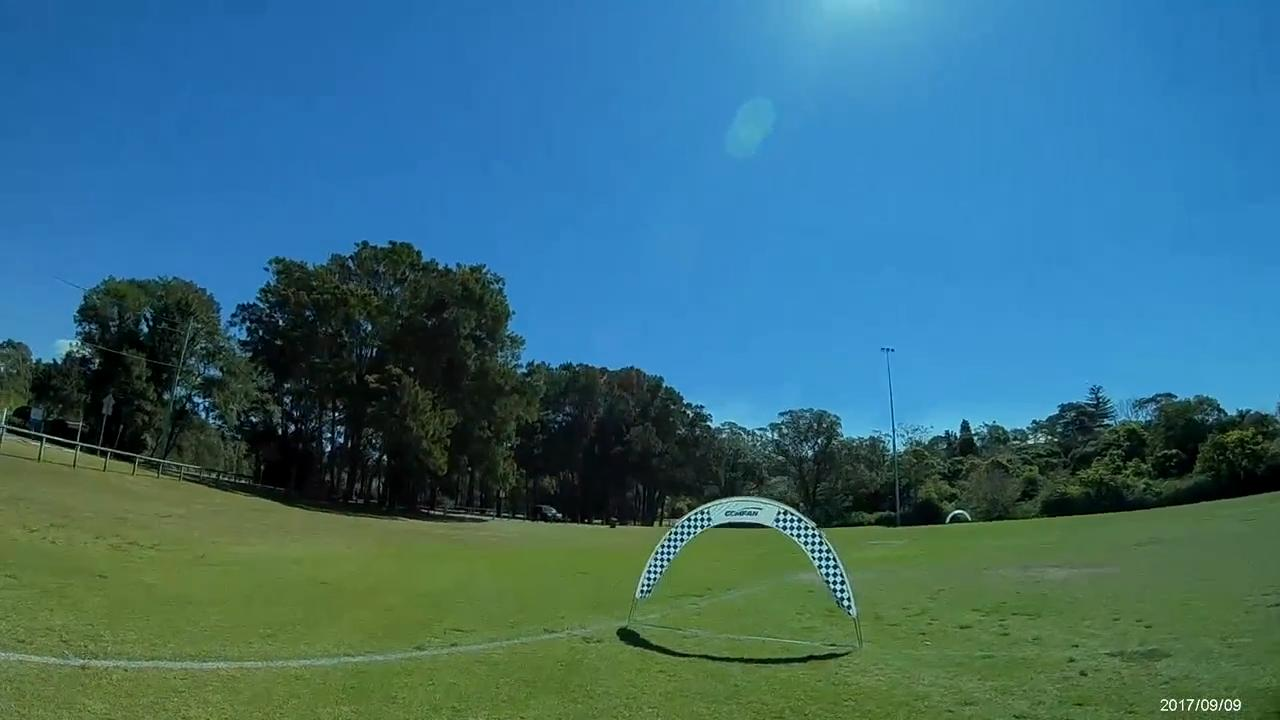gate: (633, 498, 859, 618), (941, 510, 972, 527)
